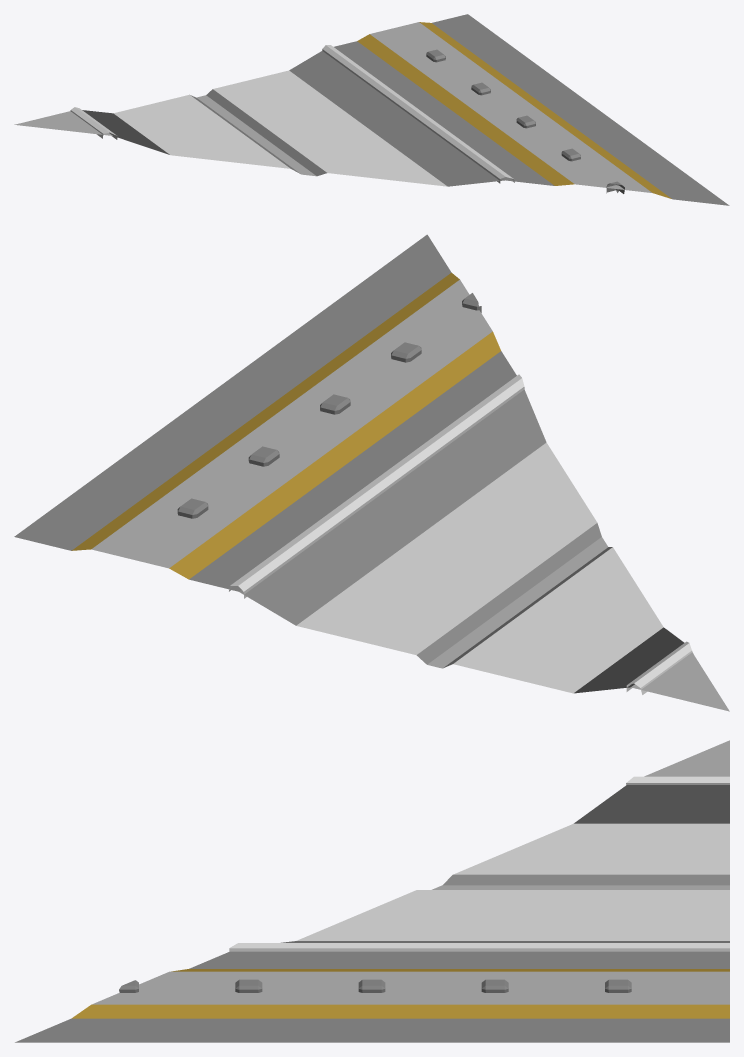
Rendered from Floor_TriangleR_Vs04.FBX.
3 views of the same model, one above another, from view 1: azimuth 30°, elevation 25°; view 2: azimuth 150°, elevation 25°; view 3: azimuth 270°, elevation 25° (orthographic). The views are drawn at different scales.
Parts seen in each view (by area): view 1: Floor_TriangleR_Vs04; view 2: Floor_TriangleR_Vs04; view 3: Floor_TriangleR_Vs04.
Boxes of the visible parts, bbox=[...] form: Floor_TriangleR_Vs04: bbox=[14, 14, 729, 205]; Floor_TriangleR_Vs04: bbox=[14, 234, 729, 711]; Floor_TriangleR_Vs04: bbox=[15, 740, 729, 1042].
Bounding box in the file's own units: 200 × 10.83 × 200.
